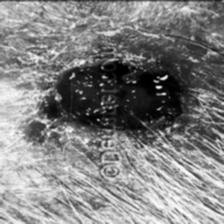Potentially Malignant Skin Tumors: (120, 58, 188, 136), (50, 50, 98, 144)
